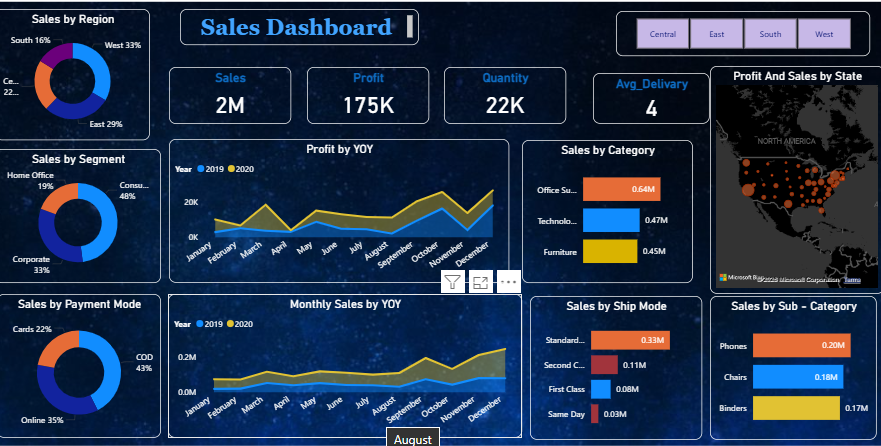

Layout of this report page (visuals, bound fields, positions):
{"tool":"powerbi","page":{"name":"Page 1","canvas":[1280,720],"ordinal":0},"visuals":[{"type":"clusteredBarChart","title":"Sales by Category","fields":{"Y":["Sum(Sales.Sales)"],"Category":["Sales.Category"]},"box":[758.9,236.2,246.2,205.9],"z":0},{"type":"clusteredBarChart","title":"Sales by Sub - Category","fields":{"Y":["Sum(Sales.Sales)"],"Category":["Sales.Sub-Category"]},"box":[1029.6,460.8,240.5,207.4],"z":1000},{"type":"clusteredBarChart","title":"Sales by Ship Mode","fields":{"Y":["Sum(Sales.Sales)"],"Category":["Sales.Ship Mode"]},"box":[770.4,460.8,247.7,207.4],"z":2000},{"type":"stackedAreaChart","title":"Monthly Sales by YOY","fields":{"Category":["Sales.Order Date.Variation.Date Hierarchy.Month"],"Y":["Sum(Sales.Sales)"],"Series":["Sales.Order Date.Variation.Date Hierarchy.Year"]},"box":[249.1,457.9,509.8,207.4],"z":3000},{"type":"stackedAreaChart","title":"Profit by YOY","fields":{"Category":["Sales.Order Date.Variation.Date Hierarchy.Month"],"Series":["Sales.Order Date.Variation.Date Hierarchy.Year"],"Y":["Sum(Sales.Profit)"]},"box":[250.6,234.7,489.6,207.4],"z":4000},{"type":"map","title":"Profit And Sales by State","fields":{"Category":["Sales.State"],"Size":["Sum(Sales.Sales)"]},"box":[1029.6,129.6,250.6,328.3],"z":5000},{"type":"donutChart","title":"Sales by Segment","fields":{"Category":["Sales.Segment"],"Y":["Sum(Sales.Sales)"]},"box":[0,249.1,239,193],"z":6000},{"type":"donutChart","title":"Sales by Payment Mode","fields":{"Y":["Sum(Sales.Sales)"],"Category":["Sales.Payment Mode"]},"box":[2.9,457.9,236.2,207.4],"z":7000},{"type":"slicer","fields":{"Values":["Sales.Region"]},"box":[894.2,50.4,365.8,64.8],"z":8000},{"type":"textbox","box":[266.4,47.5,344.2,51.8],"z":9000},{"type":"donutChart","title":" Sales by Region","fields":{"Y":["Sum(Sales.Sales)"],"Category":["Sales.Region"]},"box":[0,47.5,223.2,188.6],"z":10000},{"type":"card","title":"Sales","fields":{"Values":["Sum(Sales.Sales)"]},"box":[250.6,131,175.7,82.1],"z":11000},{"type":"card","title":"Profit","fields":{"Values":["Sum(Sales.Profit)"]},"box":[449.3,131,175.7,82.1],"z":12000},{"type":"card","title":"Quantity","fields":{"Values":["Sum(Sales.Quantity)"]},"box":[646.6,131,175.7,82.1],"z":13000},{"type":"card","title":"Avg_Delivary","fields":{"Values":["Avg(Sales.Avg_Delivary)"]},"box":[861.1,139.7,168.5,73.4],"z":14000}]}

Visuals, with their boxes on the page's 1280x720 design canvas (x1, y1, x2, y2). These are canvas units, not pixel positions in the 881x446 screenshot, which may show the page scaled, cropped or inside an application window:
"Sales by Category" clusteredBarChart: 759, 236, 1005, 442
"Sales by Sub - Category" clusteredBarChart: 1030, 461, 1270, 668
"Sales by Ship Mode" clusteredBarChart: 770, 461, 1018, 668
"Monthly Sales by YOY" stackedAreaChart: 249, 458, 759, 665
"Profit by YOY" stackedAreaChart: 251, 235, 740, 442
"Profit And Sales by State" map: 1030, 130, 1280, 458
"Sales by Segment" donutChart: 0, 249, 239, 442
"Sales by Payment Mode" donutChart: 3, 458, 239, 665
slicer - Sales.Region: 894, 50, 1260, 115
textbox: 266, 48, 611, 99
" Sales by Region" donutChart: 0, 48, 223, 236
"Sales" card: 251, 131, 426, 213
"Profit" card: 449, 131, 625, 213
"Quantity" card: 647, 131, 822, 213
"Avg_Delivary" card: 861, 140, 1030, 213
